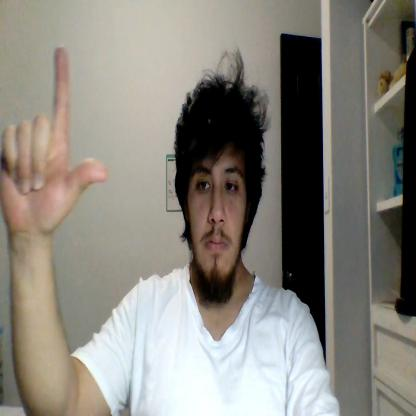L: (0, 46, 106, 235)
